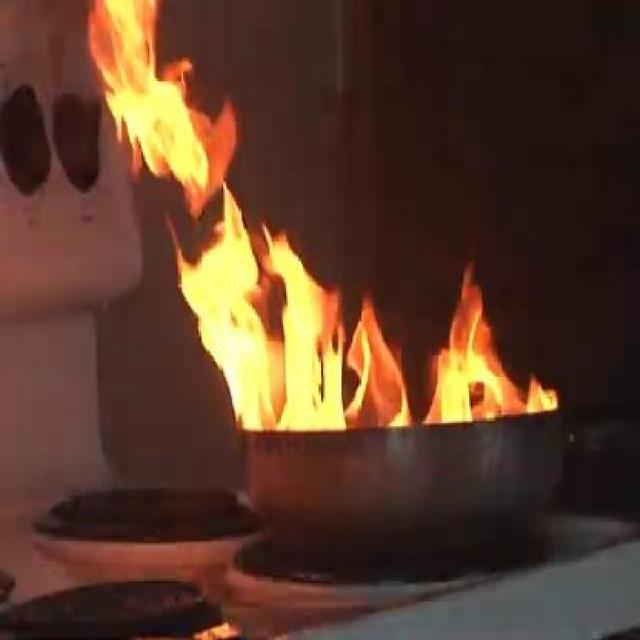fire: (169, 224, 560, 423), (80, 3, 240, 200)
